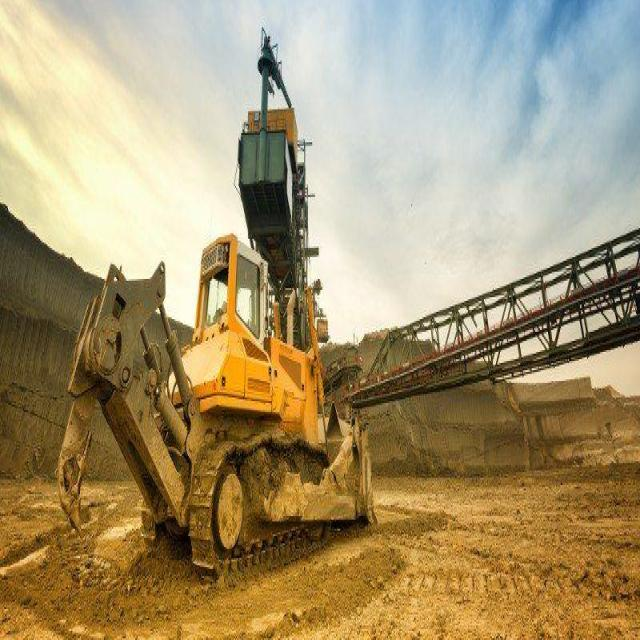buldozerpayloadergrader: (39, 237, 394, 584)
